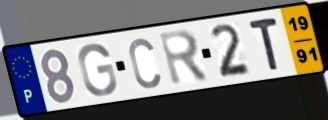2: (211, 21, 253, 81)
8: (39, 46, 77, 105)
C: (127, 36, 163, 92)
G: (76, 42, 119, 98)
R: (156, 27, 212, 89)
T: (246, 15, 282, 72)
